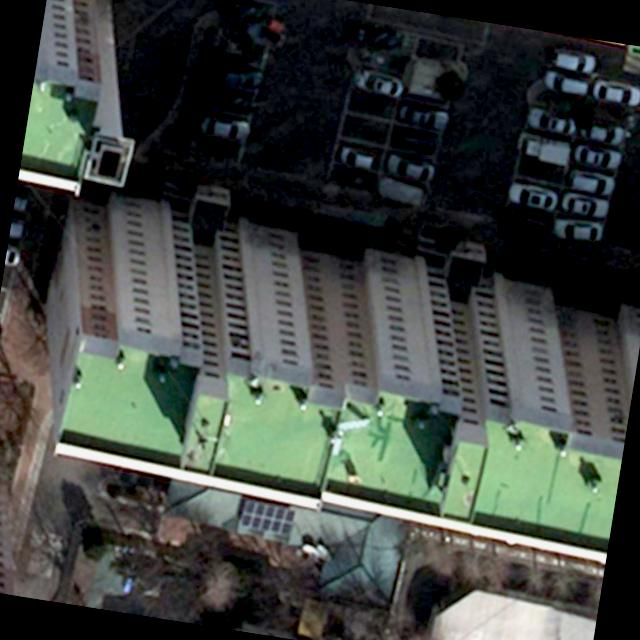solar: (234, 496, 298, 542)
